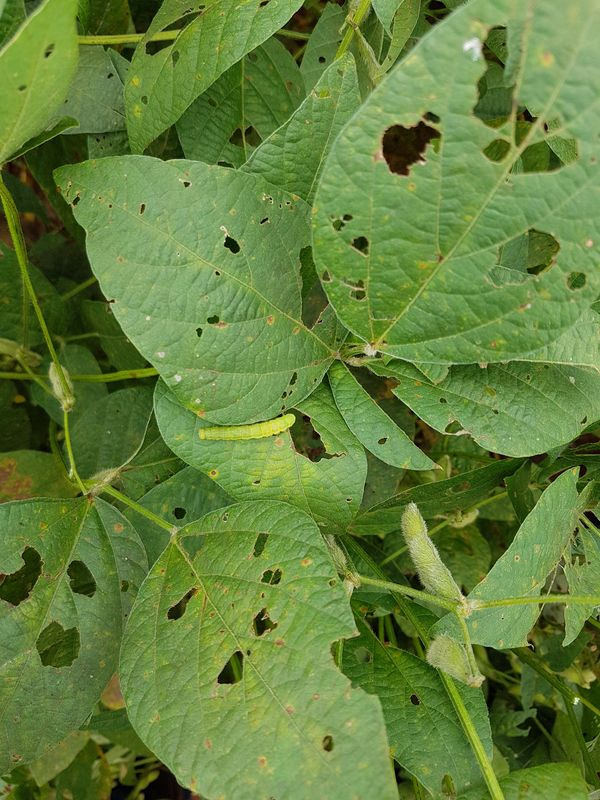Anticarsia_gemmatalis: (191, 398, 303, 465)
